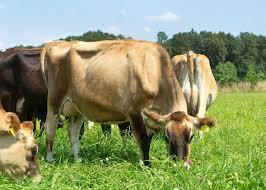cow: (42, 40, 216, 172), (0, 42, 66, 133), (171, 50, 218, 140), (0, 99, 41, 185)
